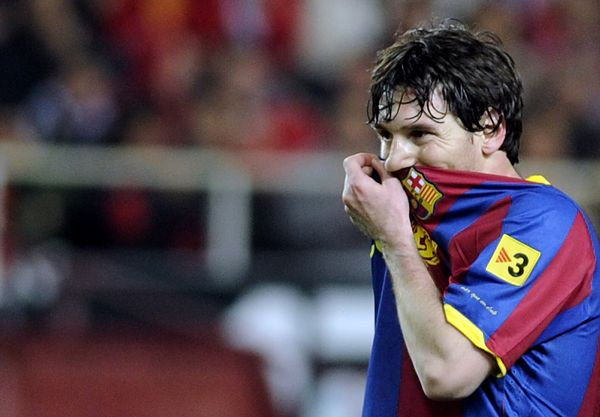face: (377, 86, 482, 214)
